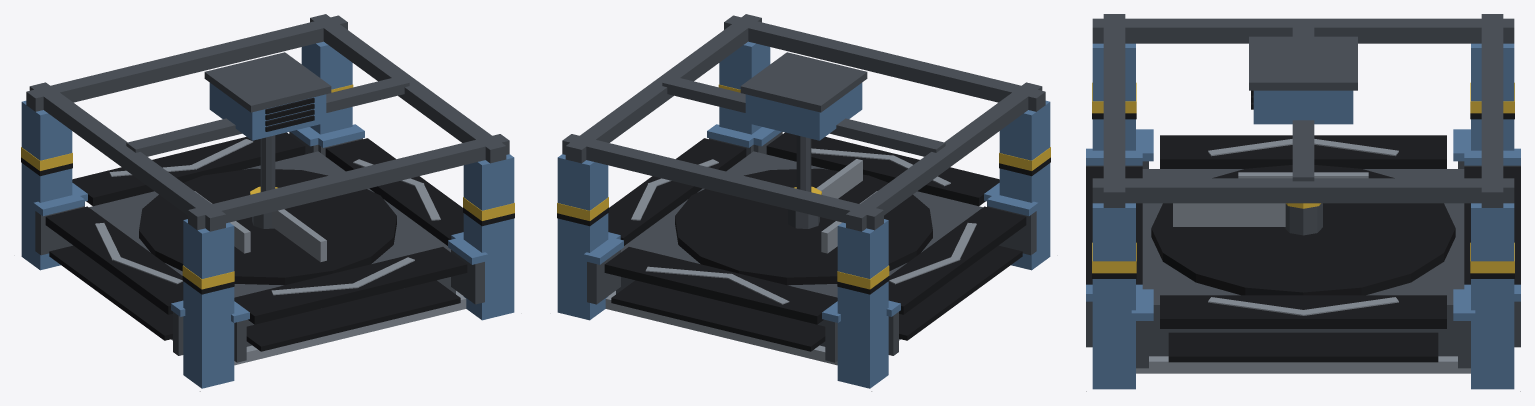
The model's file is separateur.glb.
3 views of the same model, side by side, from view 1: azimuth 30°, elevation 25°; view 2: azimuth 150°, elevation 25°; view 3: azimuth 270°, elevation 25° (orthographic). The views are drawn at different scales.
Parts seen in each view (by area): view 1: pieces_acier_sombre.022, pieces_noir.030, pieces_separateur.002, plateau_fond.006, bande_acier.048, pieces_acier.054, aiguillage_acier.004, pieces_jaune.024; view 2: pieces_acier_sombre.022, pieces_noir.030, pieces_separateur.002, plateau_fond.006, bande_acier.048, pieces_acier.054, pieces_jaune.024, aiguillage_acier.004, aiguillage_acier_sombre.004; view 3: pieces_acier_sombre.022, pieces_noir.030, pieces_separateur.002, plateau_fond.006, pieces_acier.054, aiguillage_acier.004, bande_acier.048, pieces_jaune.024, aiguillage_acier_sombre.004.
Part boxes in pixels (bbox=[...]): pieces_acier_sombre.022: bbox=[26, 14, 509, 362]; pieces_noir.030: bbox=[21, 97, 514, 351]; pieces_separateur.002: bbox=[21, 41, 514, 388]; plateau_fond.006: bbox=[139, 168, 396, 285]; bande_acier.048: bbox=[95, 139, 440, 295]; pieces_acier.054: bbox=[171, 291, 466, 365]; aiguillage_acier.004: bbox=[194, 191, 326, 262]; pieces_jaune.024: bbox=[21, 84, 514, 289]; pieces_acier_sombre.022: bbox=[562, 14, 1045, 362]; pieces_noir.030: bbox=[557, 132, 1050, 351]; pieces_separateur.002: bbox=[557, 41, 1050, 388]; plateau_fond.006: bbox=[675, 168, 932, 285]; bande_acier.048: bbox=[631, 148, 976, 304]; pieces_acier.054: bbox=[605, 291, 900, 365]; pieces_jaune.024: bbox=[557, 84, 1050, 289]; aiguillage_acier.004: bbox=[816, 159, 877, 253]; aiguillage_acier_sombre.004: bbox=[788, 209, 819, 228]; pieces_acier_sombre.022: bbox=[1086, 14, 1520, 368]; pieces_noir.030: bbox=[1086, 90, 1520, 362]; pieces_separateur.002: bbox=[1086, 43, 1520, 389]; plateau_fond.006: bbox=[1151, 165, 1455, 295]; pieces_acier.054: bbox=[1136, 356, 1470, 373]; aiguillage_acier.004: bbox=[1173, 172, 1368, 226]; bande_acier.048: bbox=[1208, 139, 1398, 315]; pieces_jaune.024: bbox=[1092, 82, 1514, 273]; aiguillage_acier_sombre.004: bbox=[1284, 203, 1322, 235].
Size of the model in its own units: 1 by 0.61 by 1.
